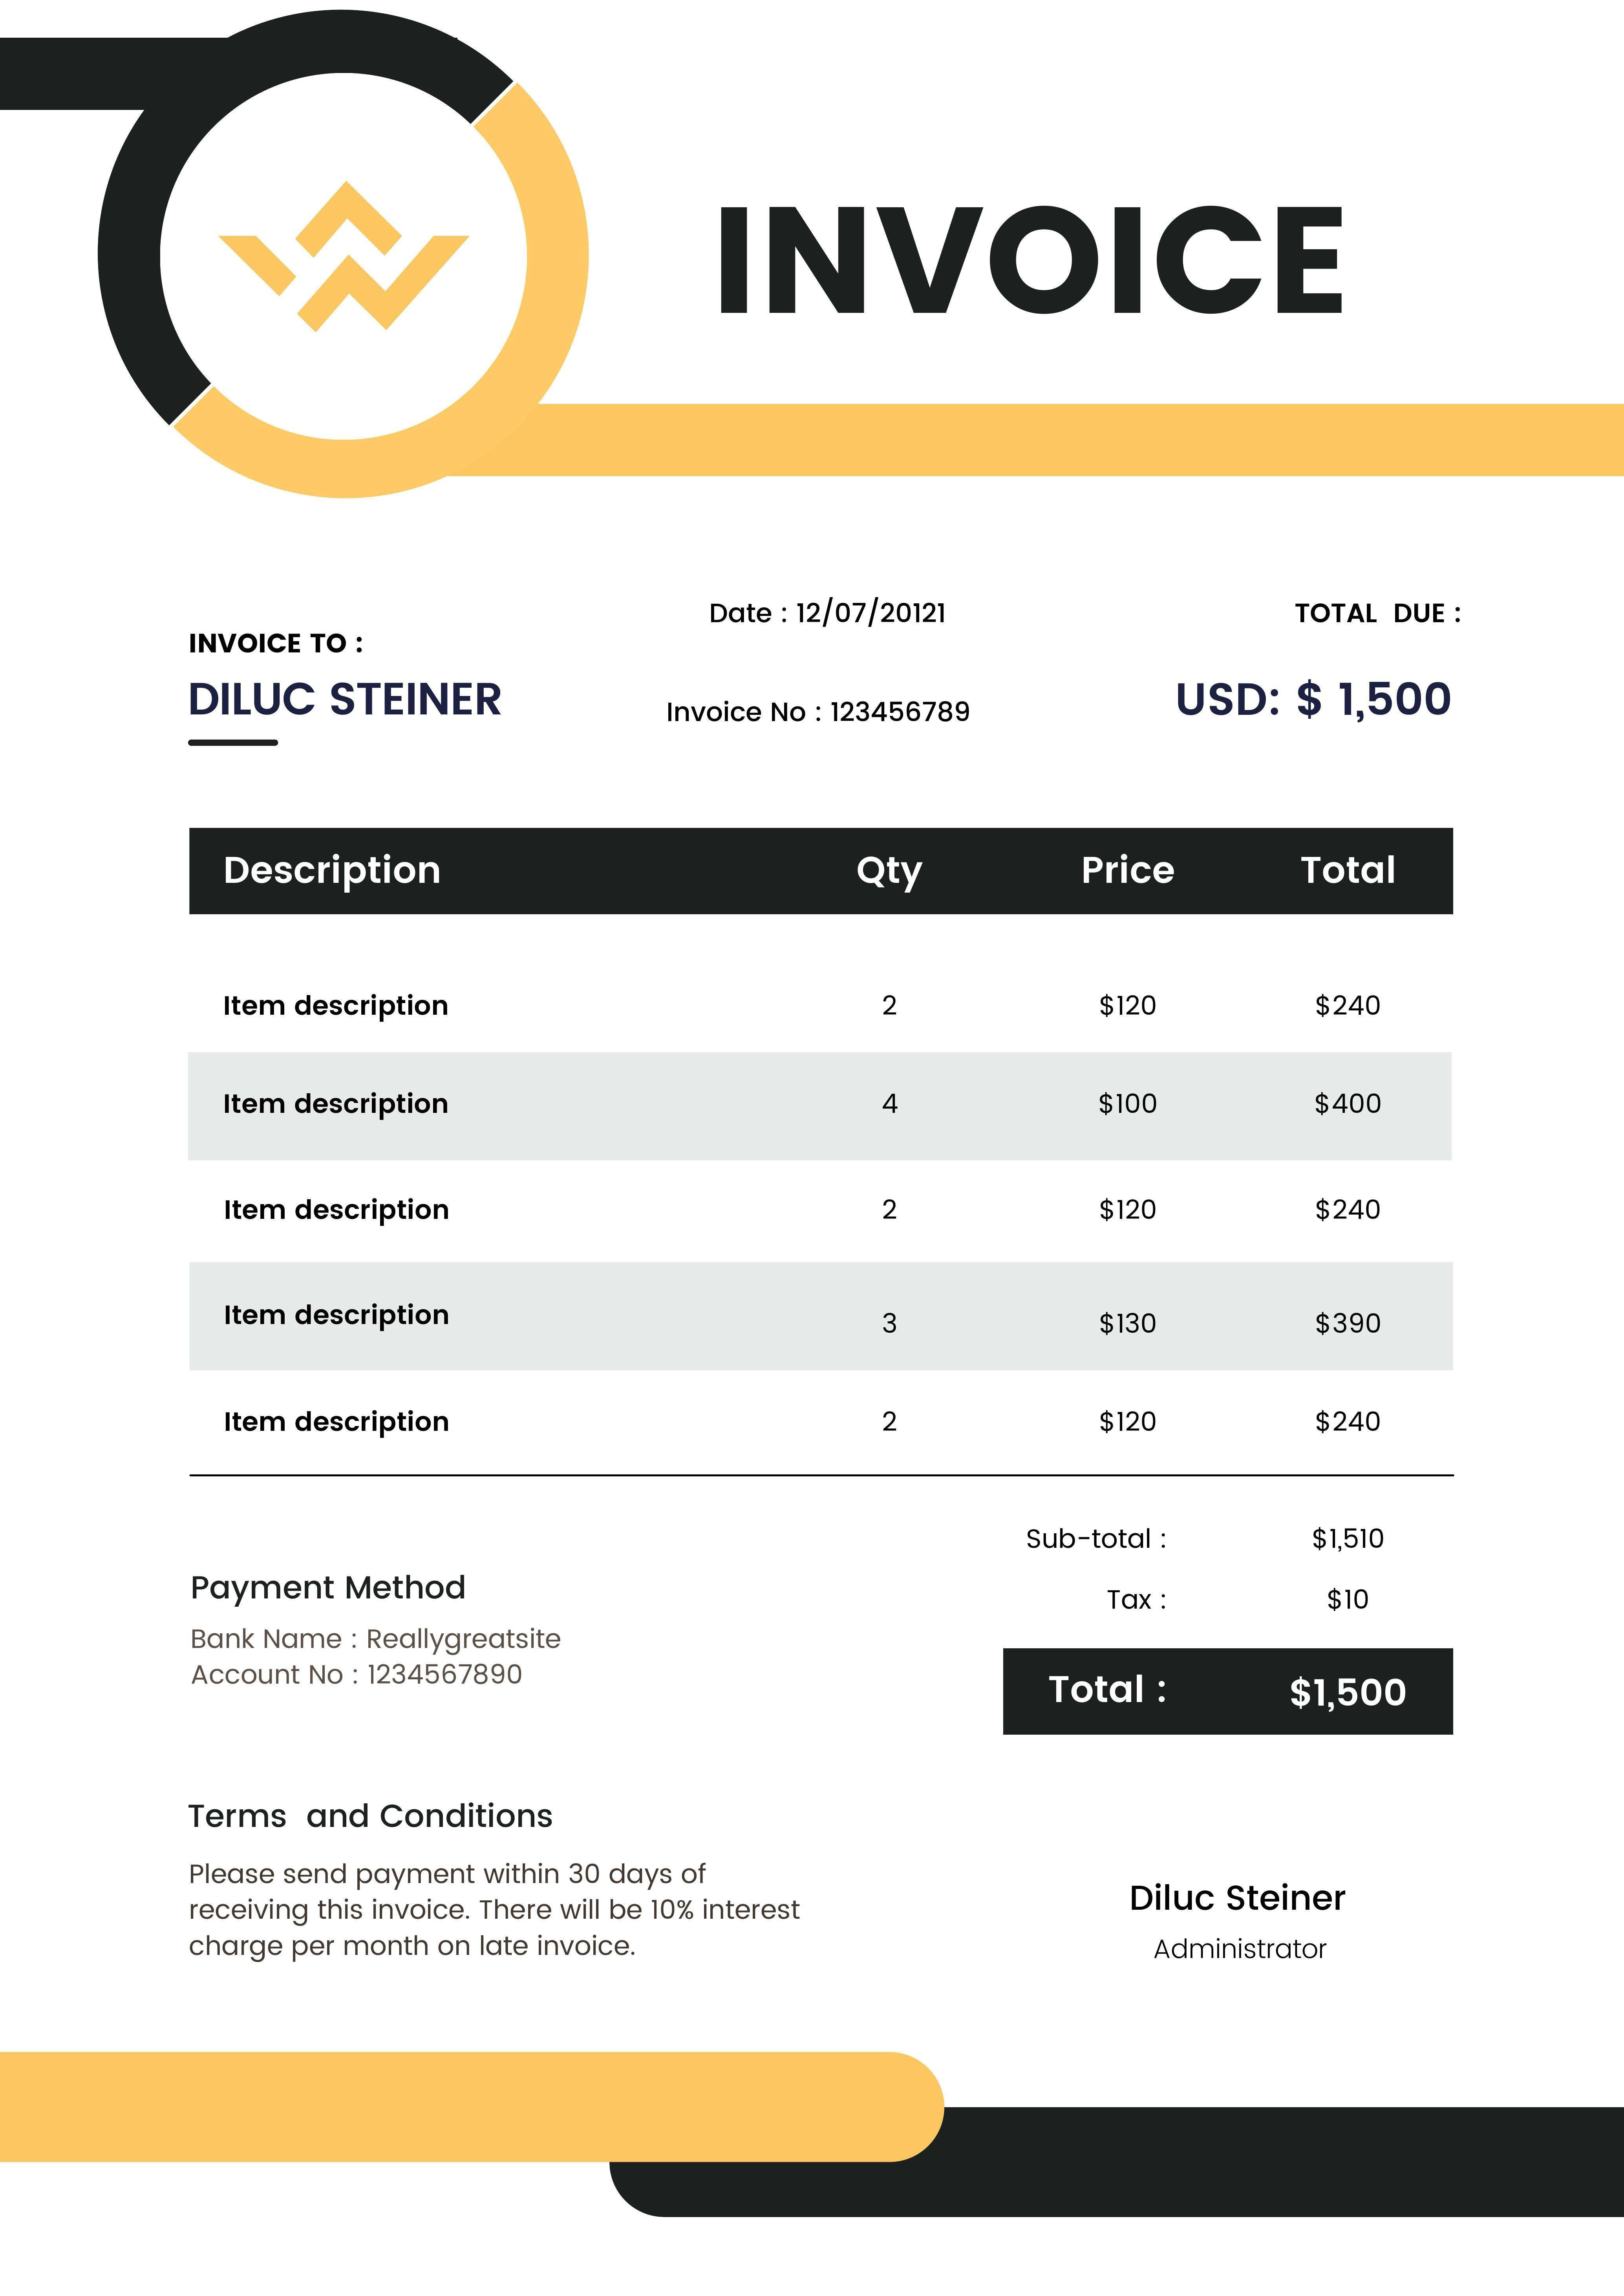ROI: (192, 827, 1448, 1476), (1002, 1498, 1452, 1734), (647, 578, 1040, 743), (183, 1560, 571, 1697), (181, 615, 533, 738)
